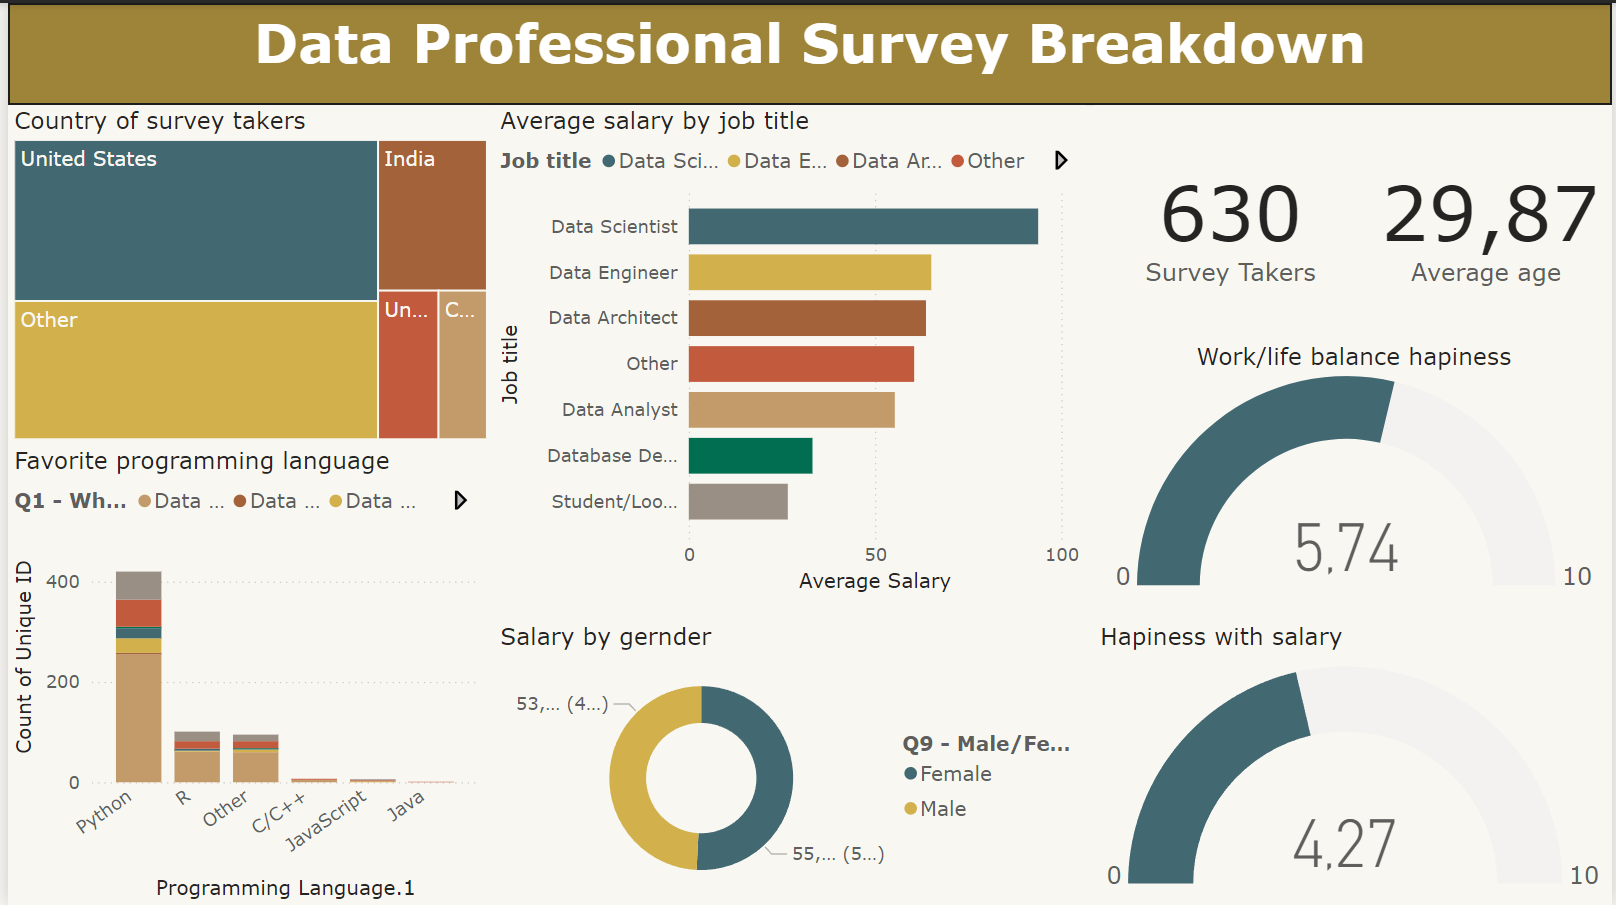

Layout of this report page (visuals, bound fields, positions):
{"tool":"powerbi","page":{"name":"Page 1","canvas":[1280,720],"ordinal":0},"visuals":[{"type":"textbox","box":[0,0,1280.5,81.4],"z":0},{"type":"card","fields":{"Values":["CountNonNull(Data Professional Survey.Unique ID)"]},"box":[867.3,81.4,218,188.7],"z":1000},{"type":"card","fields":{"Values":["Avg(Data Professional Survey.Q10 - Current Age)"]},"box":[1083.7,81.4,198.5,188.7],"z":2000},{"type":"barChart","title":"Average salary by job title","fields":{"Category":["Data Professional Survey.Q1 - Which Title Best Fits your Current Role?.1"],"Y":["Avg(Data Professional Survey.Average salary1)"],"Series":["Data Professional Survey.Q1 - Which Title Best Fits your Current Role?.1"]},"box":[387.3,81.4,471.9,393.8],"z":2001},{"type":"columnChart","title":"Favorite programming language","fields":{"Category":["Data Professional Survey.Q5 - Favorite Programming Language.1"],"Y":["CountNonNull(Data Professional Survey.Unique ID)"],"Series":["Data Professional Survey.Q1 - Which Title Best Fits your Current Role?.1"]},"box":[0,353.1,380.7,367.7],"z":2002},{"type":"treemap","title":"Country of survey takers","fields":{"Group":["Data Professional Survey.Q11 - Which Country do you live in?.1"],"Values":["CountNonNull(Data Professional Survey.Q11 - Which Country do you live in?.1)"]},"box":[0,81.4,387.3,271.7],"z":2003},{"type":"gauge","title":"Work/life balance hapiness","fields":{"Y":["Avg(Data Professional Survey.Q6 - How Happy are you in your Current Position with the following? (Work/Life Balance))"],"MinValue":["Min(Data Professional Survey.Q6 - How Happy  with the following? (Work/Life Balance))"],"MaxValue":["Max(Data Professional Survey.Q6 - How Happy  with the following? (Work/Life Balance))"]},"box":[867.3,270.1,414.9,205],"z":2004},{"type":"gauge","title":"Hapiness with salary","fields":{"Y":["Avg(Data Professional Survey.Q6 - How Happy  with the following? (Salary))"],"MinValue":["Min(Data Professional Survey.Q6 - How Happy  with the following? (Salary))1"],"MaxValue":["Max(Data Professional Survey.Q6 - How Happy  with the following? (Salary))2"]},"box":[867.3,493,413.3,227.8],"z":2005},{"type":"donutChart","title":"Salary by gernder","fields":{"Category":["Data Professional Survey.Q9 - Male/Female?"],"Y":["Avg(Data Professional Survey.Average salary1)"]},"box":[387.3,493,471.9,227.8],"z":2006}]}

Visuals, with their boxes in screenshot pixels (x1, y1, x2, y2), scaled from the page's 1280x720 canvas onto the 1616x905 screenshot:
textbox: [0, 0, 1615, 102]
card - CountNonNull(Data Professional Survey.Unique ID): [1095, 102, 1370, 340]
card - Avg(Data Professional Survey.Q10 - Current Age): [1368, 102, 1615, 340]
"Average salary by job title" barChart: [489, 102, 1085, 597]
"Favorite programming language" columnChart: [0, 444, 481, 904]
"Country of survey takers" treemap: [0, 102, 489, 444]
"Work/life balance hapiness" gauge: [1095, 340, 1615, 597]
"Hapiness with salary" gauge: [1095, 620, 1615, 904]
"Salary by gernder" donutChart: [489, 620, 1085, 904]
